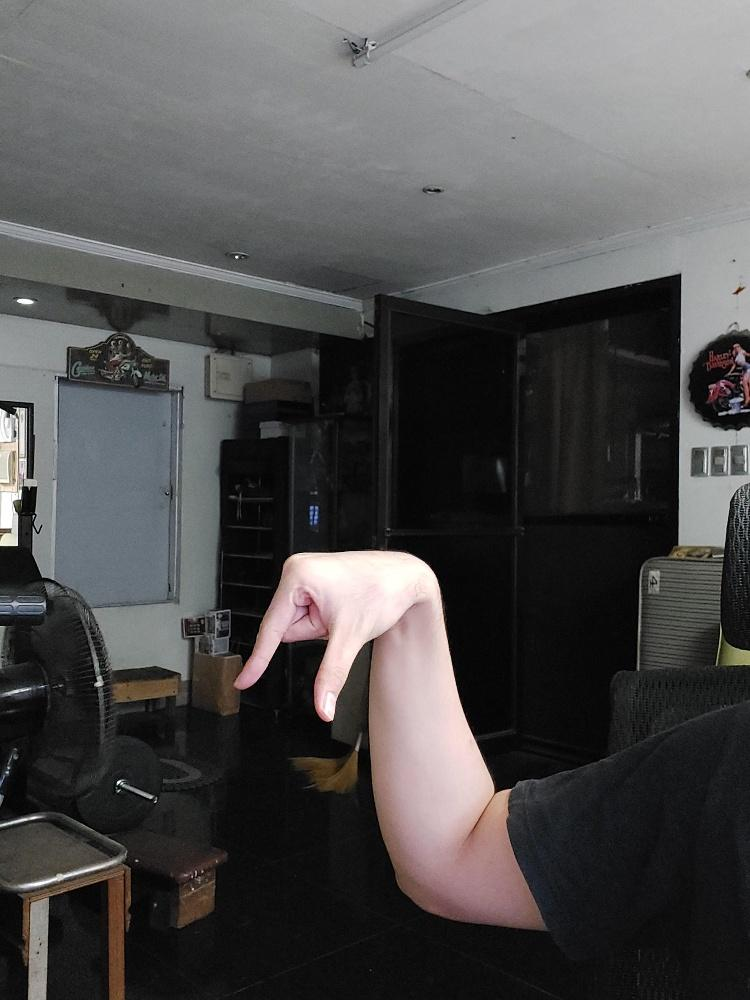q: (231, 548, 438, 721)
